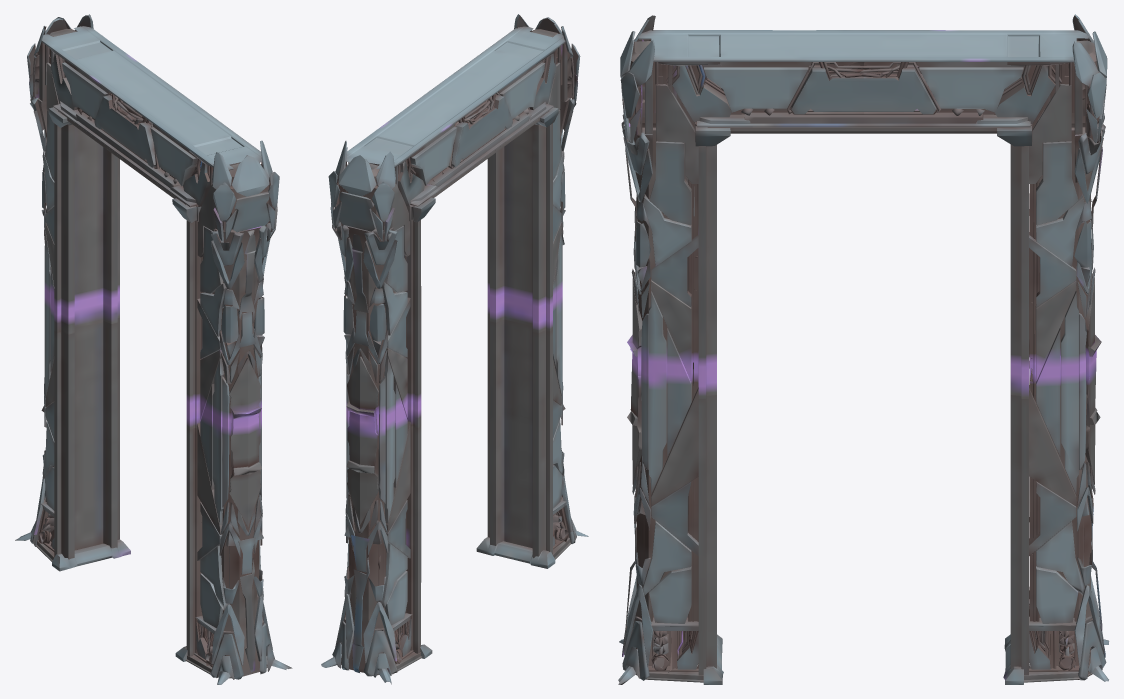
File: GateFrame_Tek_C.glb
The picture shows the model from 3 angles, left to right: view 1: azimuth 30°, elevation 25°; view 2: azimuth 150°, elevation 25°; view 3: azimuth 270°, elevation 25°; orthographic projection. The views are drawn at different scales.
Visible parts, largest first — view 1: SM_Tek_Gateway; view 2: SM_Tek_Gateway; view 3: SM_Tek_Gateway.
Part boxes in pixels (x1,y1,x2,y2): SM_Tek_Gateway: (15, 14, 292, 684); SM_Tek_Gateway: (321, 14, 588, 684); SM_Tek_Gateway: (618, 14, 1109, 684).
Bounding box in the file's own units: 1.43 × 9.33 × 6.52.
Materials: 1 (1 with a texture image).
